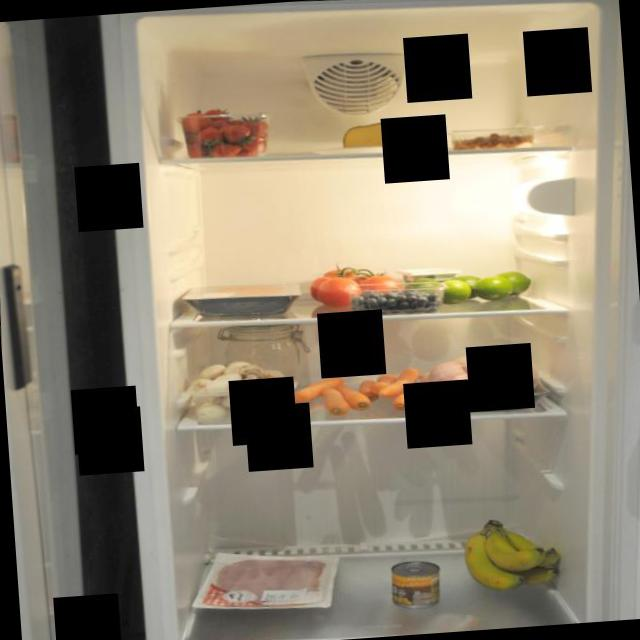Carne cerdo: (212, 549, 334, 618)
Carne pollo: (423, 346, 554, 418)
Carne vacuno: (183, 274, 309, 322)
Champiñones: (183, 354, 301, 430)
Gambas/Langostinos: (452, 130, 534, 154)
Plátano: (453, 512, 568, 602)
Queso: (338, 114, 406, 154)
Tomate: (305, 254, 405, 312)
Zanahoria: (282, 362, 430, 422)
